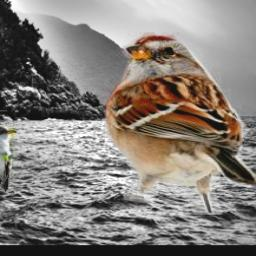Cuckoo: (0, 125, 18, 192)
Sparrow: (101, 33, 256, 216)
